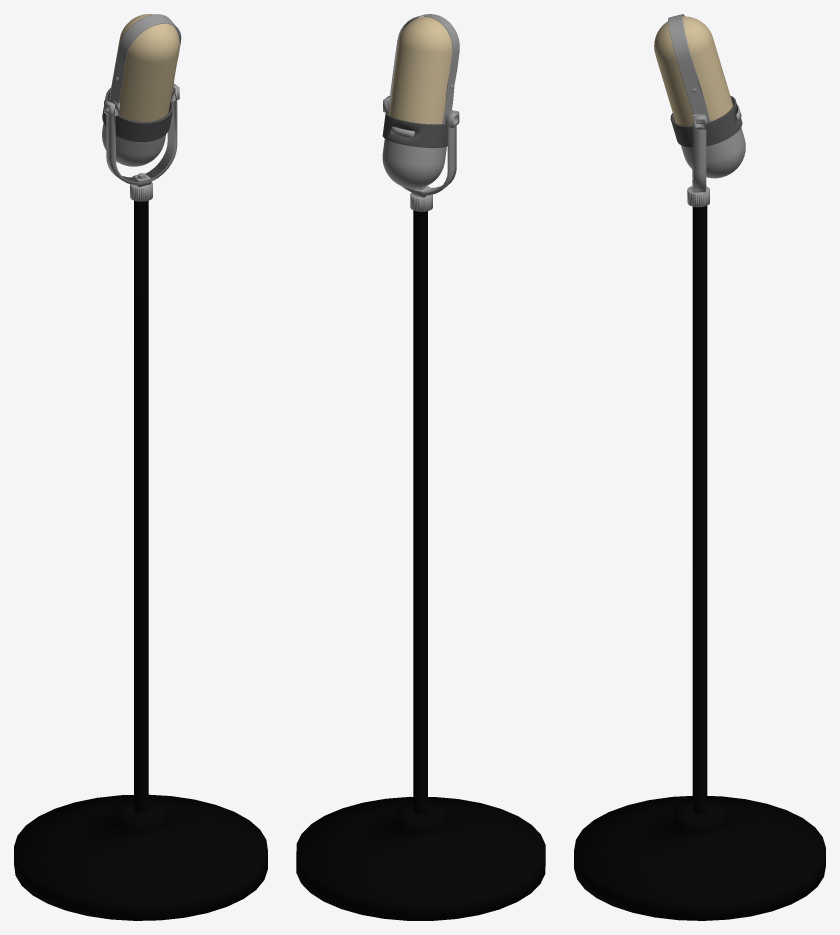
The model's file is mic.glb.
3 views of the same model, side by side, from view 1: azimuth 30°, elevation 25°; view 2: azimuth 150°, elevation 25°; view 3: azimuth 270°, elevation 25° (orthographic).
Parts seen in each view (by area): view 1: Circle.006, Cylinder, Filter, Circle.002, Circle, Circle.001, Bottom; view 2: Circle.006, Cylinder, Filter, Bottom, Circle.001, Circle.002, Circle; view 3: Circle.006, Cylinder, Filter, Circle, Bottom, Circle.001, Circle.002.
Boxes of the visible parts, x1,y1,x2,y2 form: Circle.006: (14, 794, 267, 920); Cylinder: (134, 200, 148, 812); Filter: (109, 14, 179, 121); Circle.002: (104, 83, 179, 187); Circle: (110, 14, 181, 104); Circle.001: (102, 88, 173, 142); Bottom: (102, 123, 166, 166); Circle.006: (296, 796, 545, 920); Cylinder: (413, 210, 427, 814); Filter: (389, 16, 452, 124); Bottom: (382, 139, 446, 188); Circle.001: (382, 110, 447, 147); Circle.002: (383, 95, 459, 197); Circle: (388, 14, 459, 123); Circle.006: (574, 796, 825, 920); Cylinder: (692, 206, 707, 813); Filter: (654, 16, 733, 125); Circle: (668, 14, 710, 122); Bottom: (681, 127, 745, 178); Circle.001: (670, 95, 742, 147); Circle.002: (692, 114, 706, 192).
Size of the model in its own units: 3.88 by 14.48 by 3.88.
